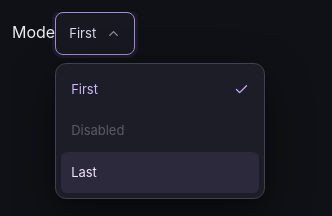
Test case: custom select keeps its label, supports keyboard selection, and cancels without changing value
The width and height of the screenshot is (332, 216).
Earlier steps of the test are not shown.
Press Enter in the dropdown named "Mode", box [55,12,135,55]
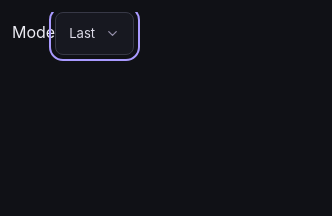
Now the dropdown named "Mode" reads "Last"
Click the dropdown named "Mode". click: click(95, 34)
box: [55,12,134,55]
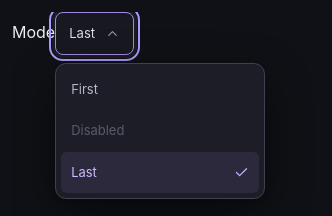
Press Home in the dropdown named "Mode", box [55,12,134,55]
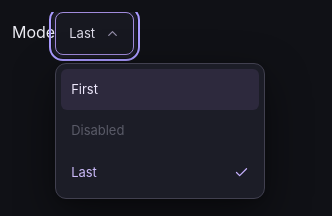
Press Escape in the dropdown named "Mode", box [55,12,134,55]
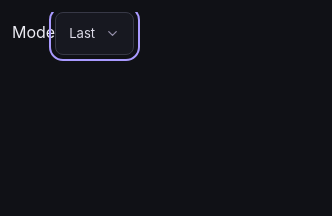
Now the dropdown named "Mode" reads "Last"
Now the list is gone
Press f in the dropdown named "Mode", box [55,12,134,55]
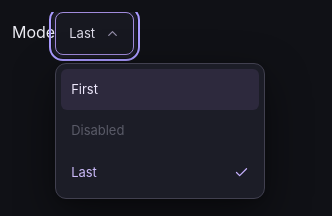
Press Enter in the dropdown named "Mode", box [55,12,134,55]
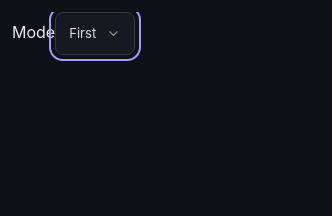
Now the dropdown named "Mode" reads "First", box [55,12,135,55]
